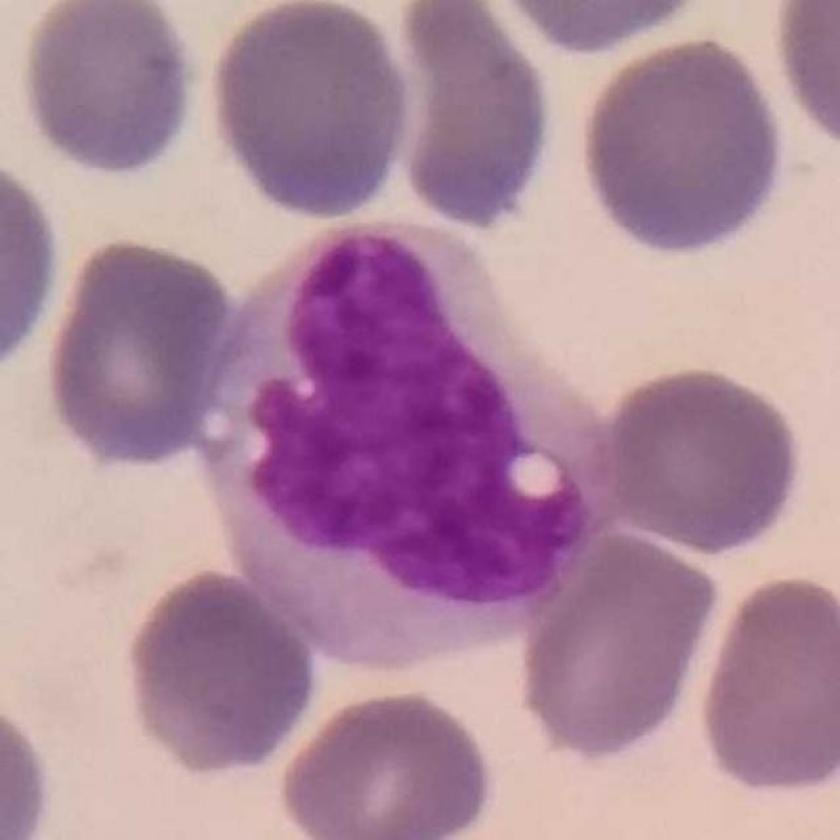monocyte: (190, 214, 643, 684)
